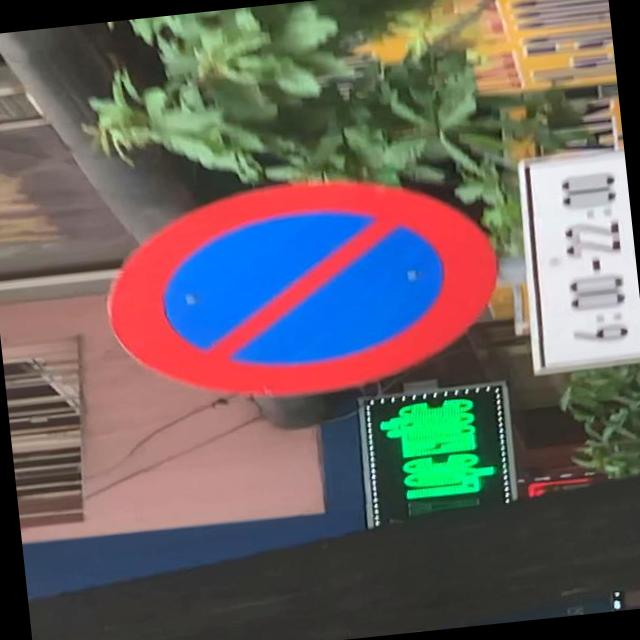P-131a: (95, 160, 509, 412)
